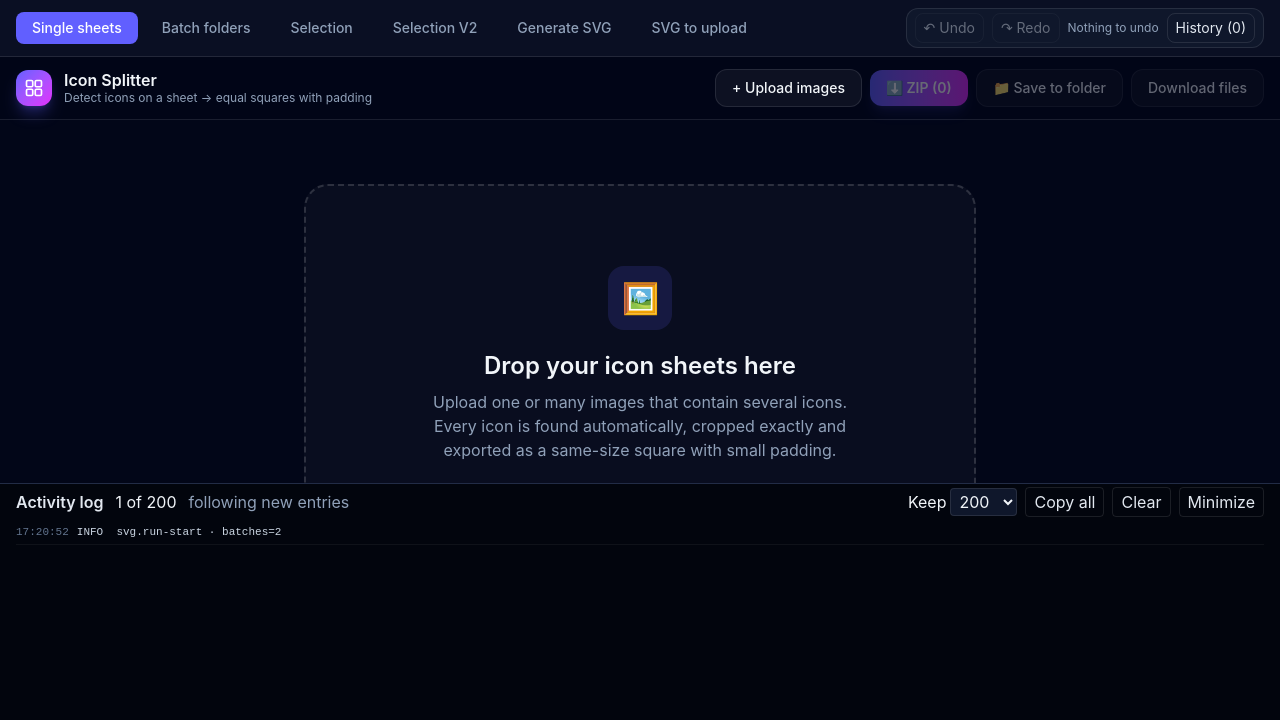
Test case: the log dock › copies exactly the text the panel is built from, and says so
Click the button with test id "log-copy". click: [1065, 502]
box: [1026,487,1104,517]
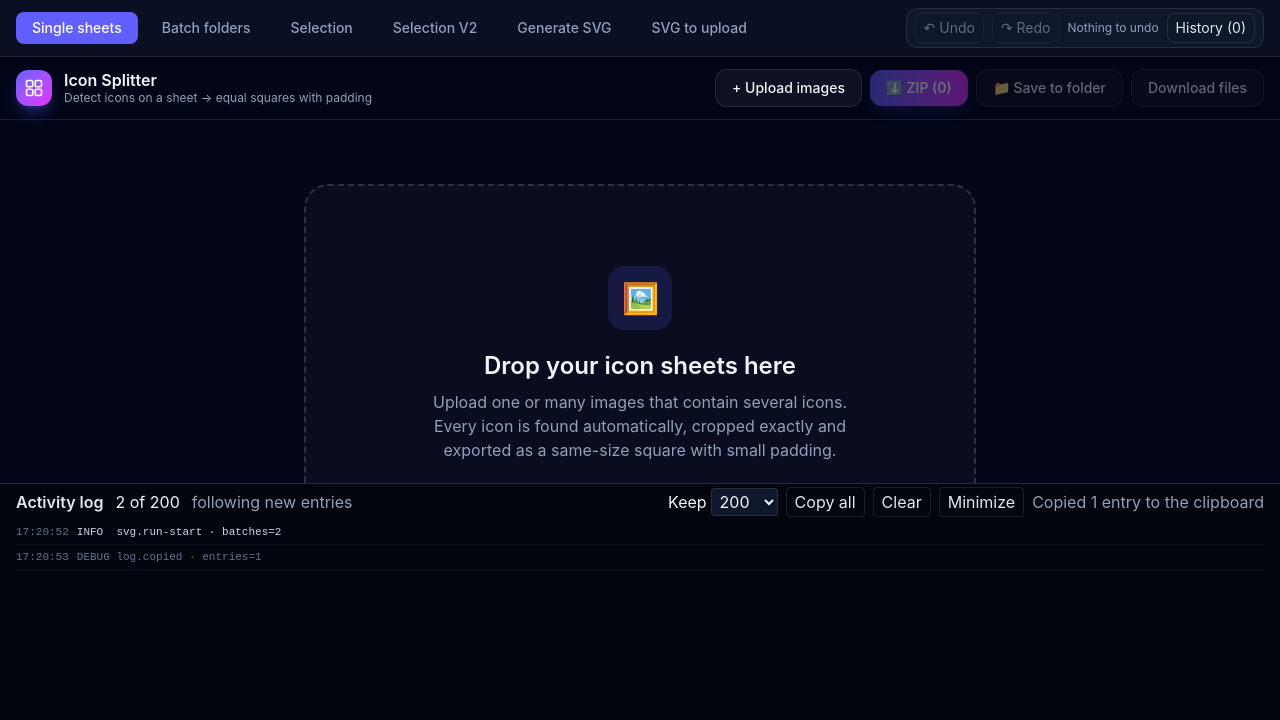
Now the message with test id "log-note" shows "Copied", box [1032,492,1264,512]
